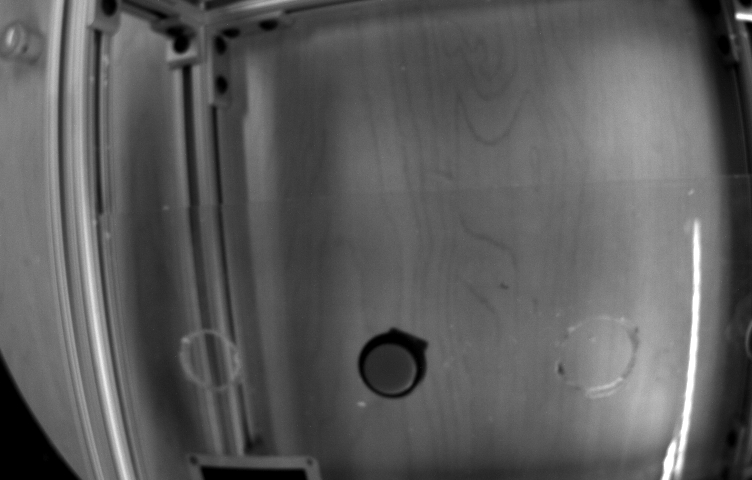dull_green_button: (347, 314, 462, 438)
